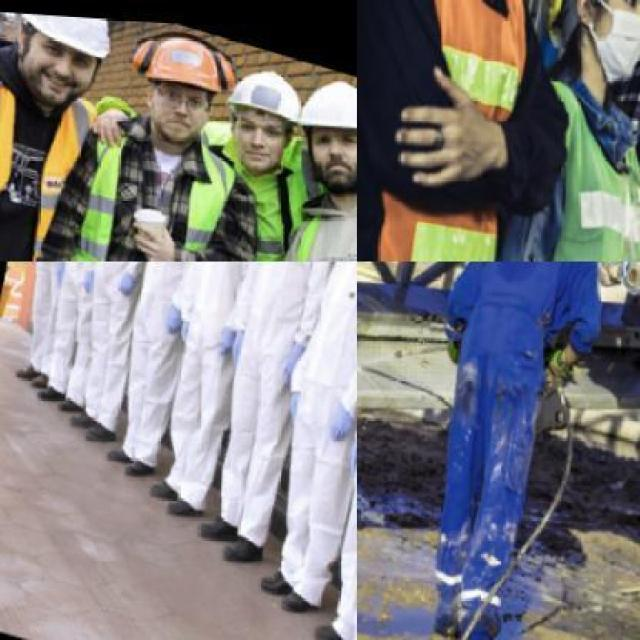hat: (132, 23, 236, 94), (20, 11, 123, 64), (226, 55, 309, 120), (294, 60, 356, 142)
